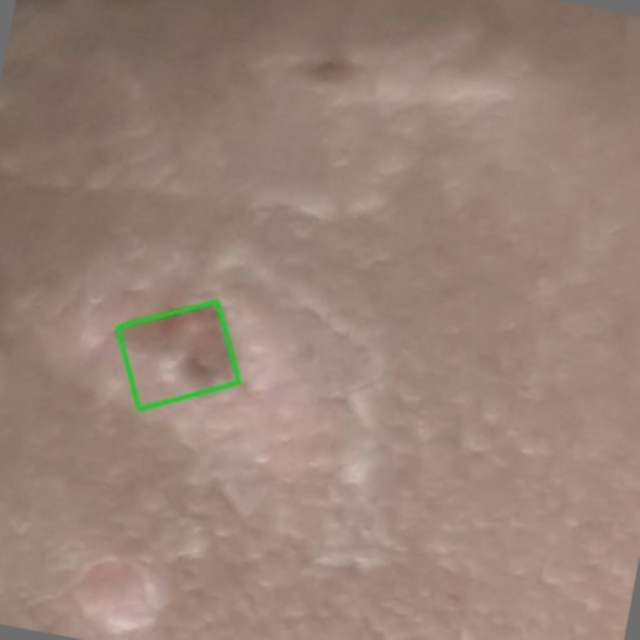Contact Dermatitis: (117, 300, 238, 408)
